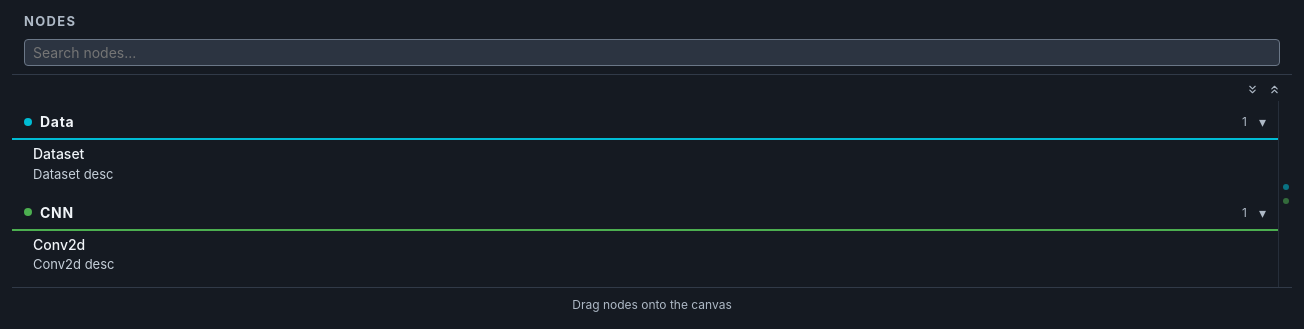
Scenario: NodesTab › drops a category whose nodes all filter out
Type "conv" into the field with placeholder "Search nodes...".
click(652, 53); type("conv")  # box 24,39 -> 1280,66
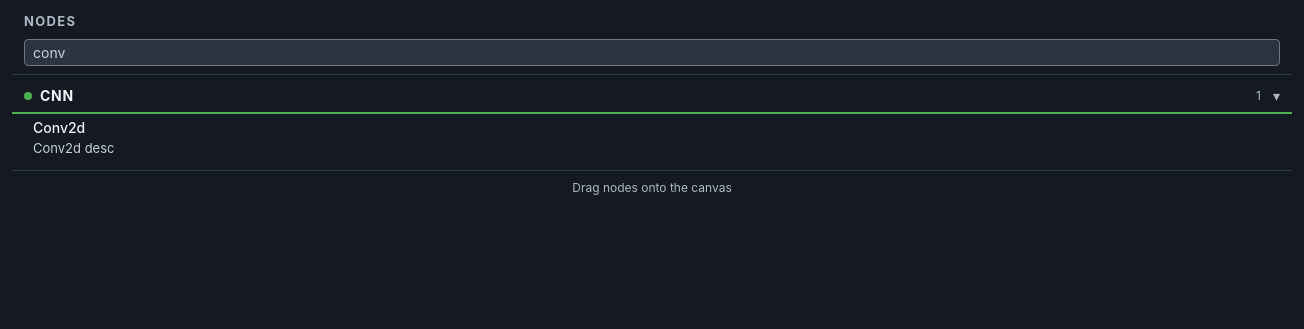
Expected: the text "CNN" is shown, 40,87 -> 74,104
Now the button "Data" is gone
